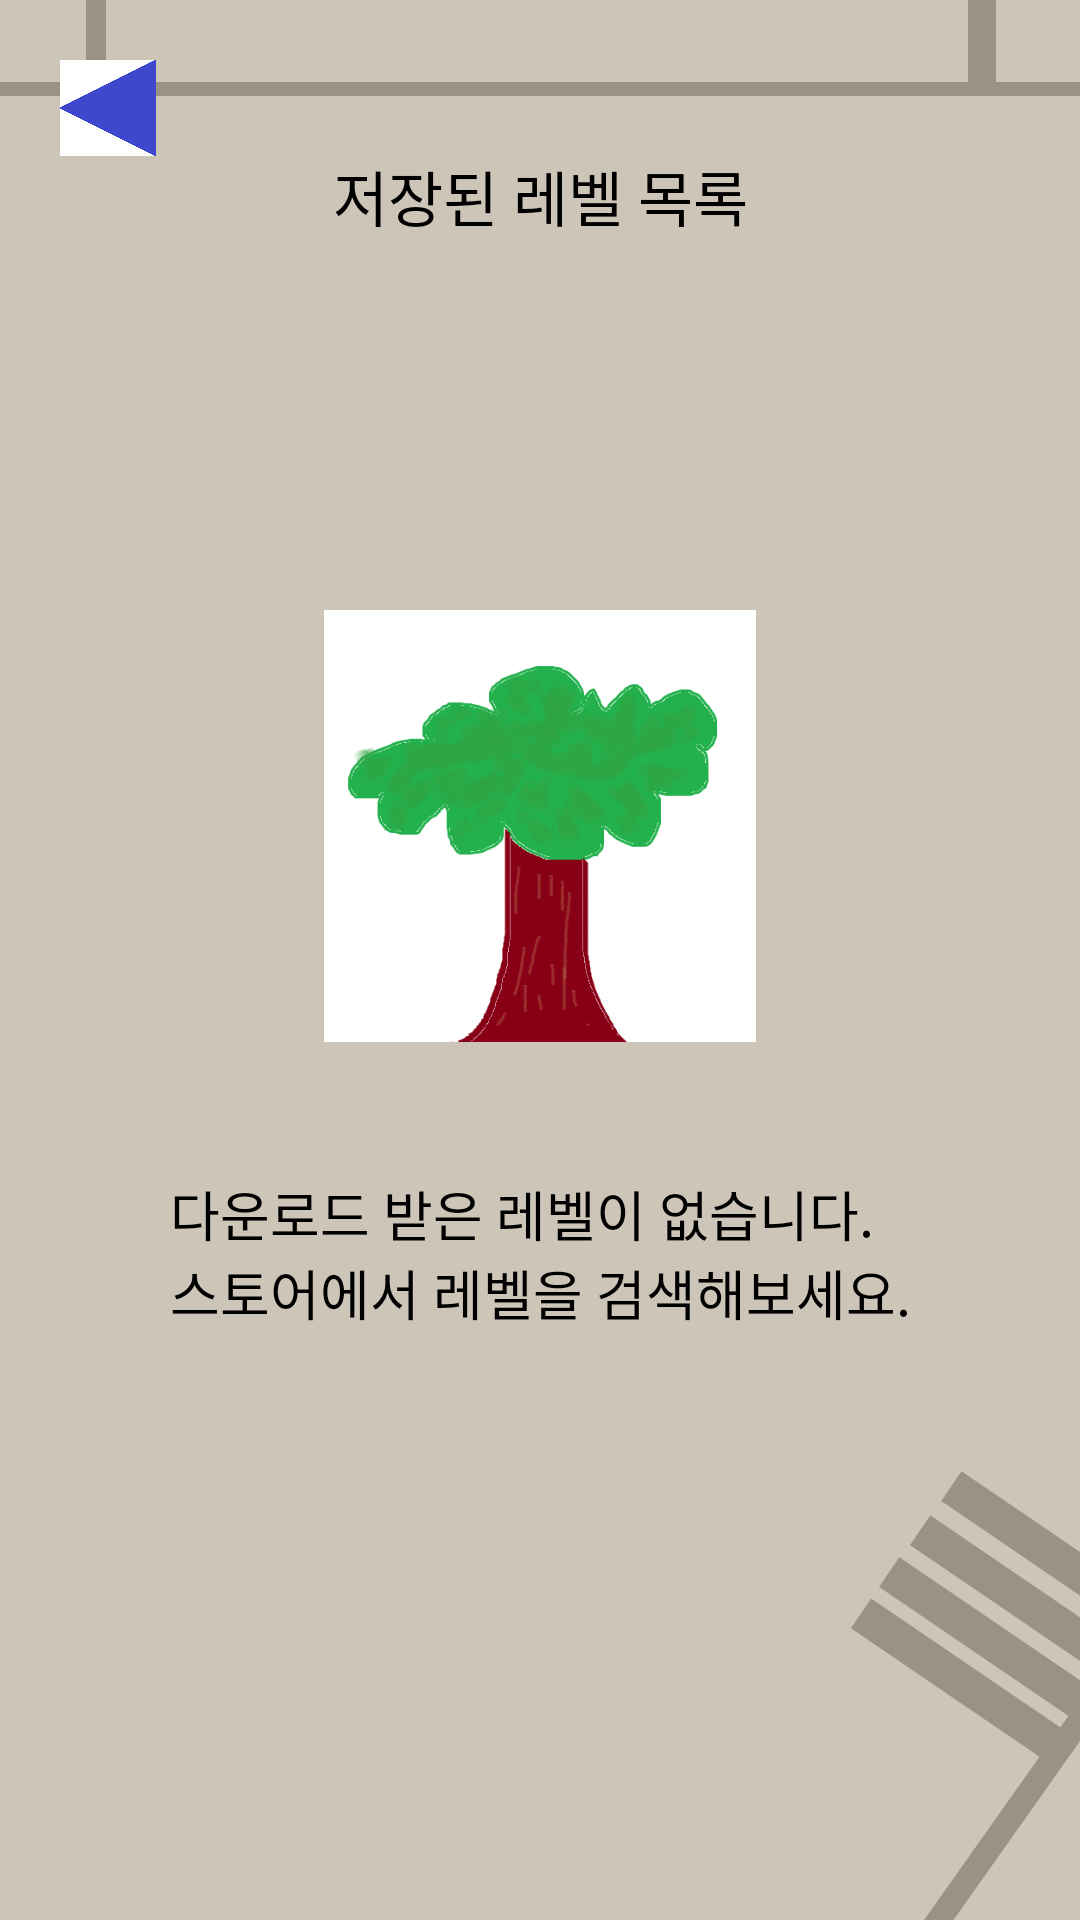

Named icons in this screenshot (1080w x 1920h) and their centers, (x=x, y=y):
general back arrow: (x=108, y=108)
